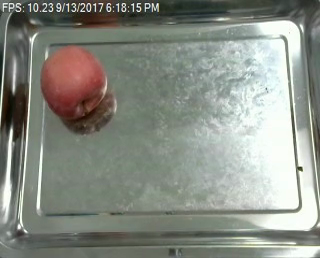Apple: (37, 46, 112, 122)
